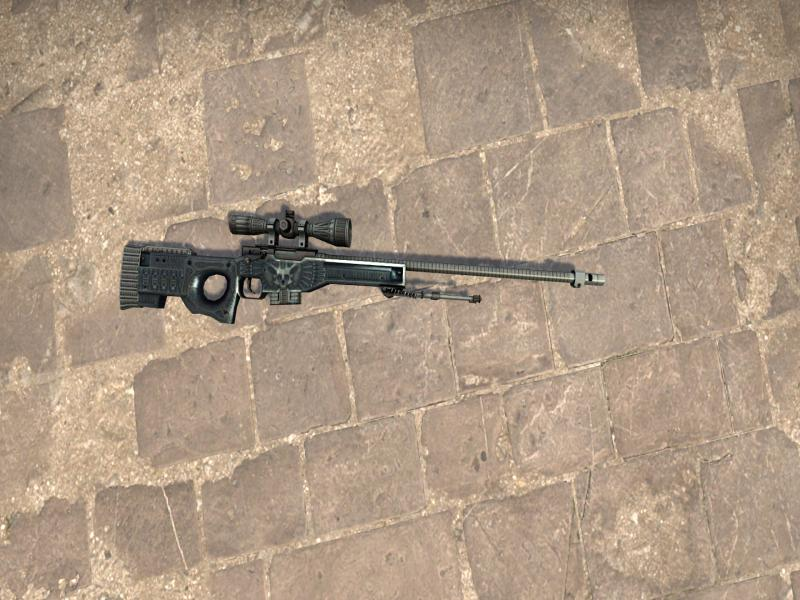AWP: (119, 209, 607, 323)
